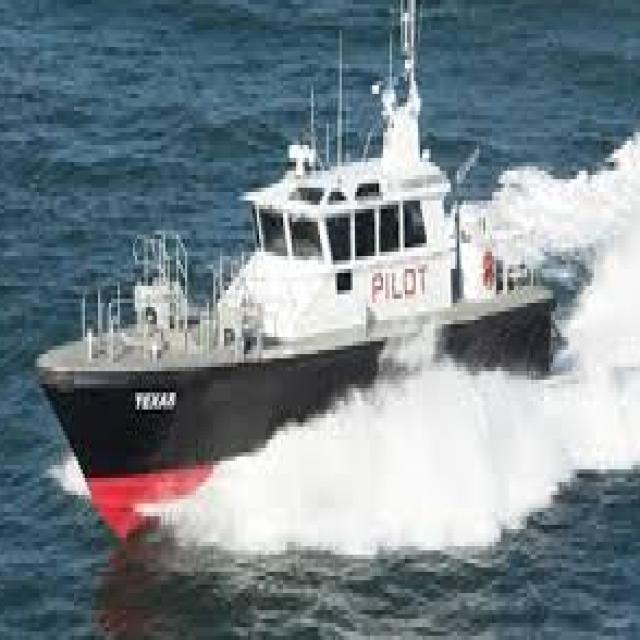houseboat: (28, 0, 562, 542)
